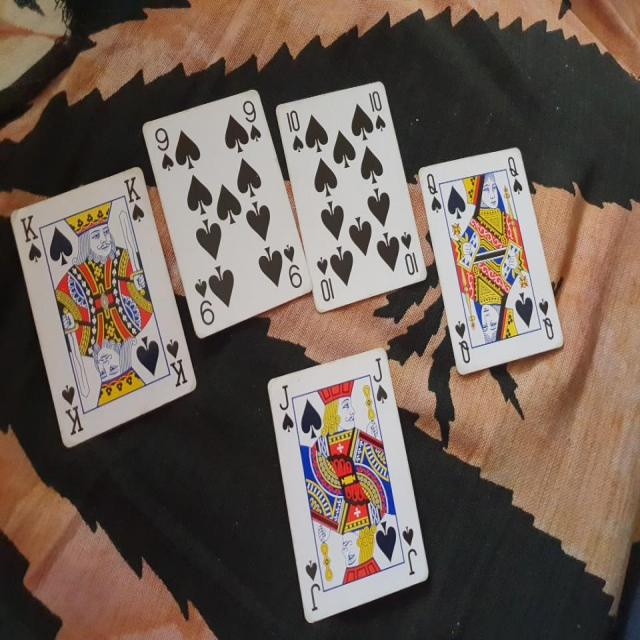10 Spades: (273, 78, 432, 321)
9 Spades: (142, 80, 315, 340)
J Spades: (262, 340, 432, 626)
K Spades: (10, 168, 199, 458)
Q Spades: (415, 142, 566, 366)
